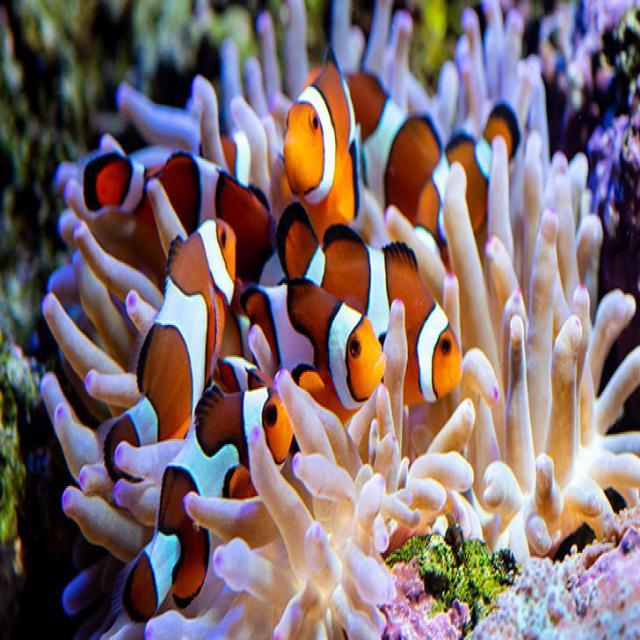ClownFish: (133, 356, 293, 624), (102, 211, 240, 470), (280, 215, 462, 394), (80, 145, 275, 271), (240, 281, 383, 417), (282, 48, 378, 236), (407, 103, 530, 232)
